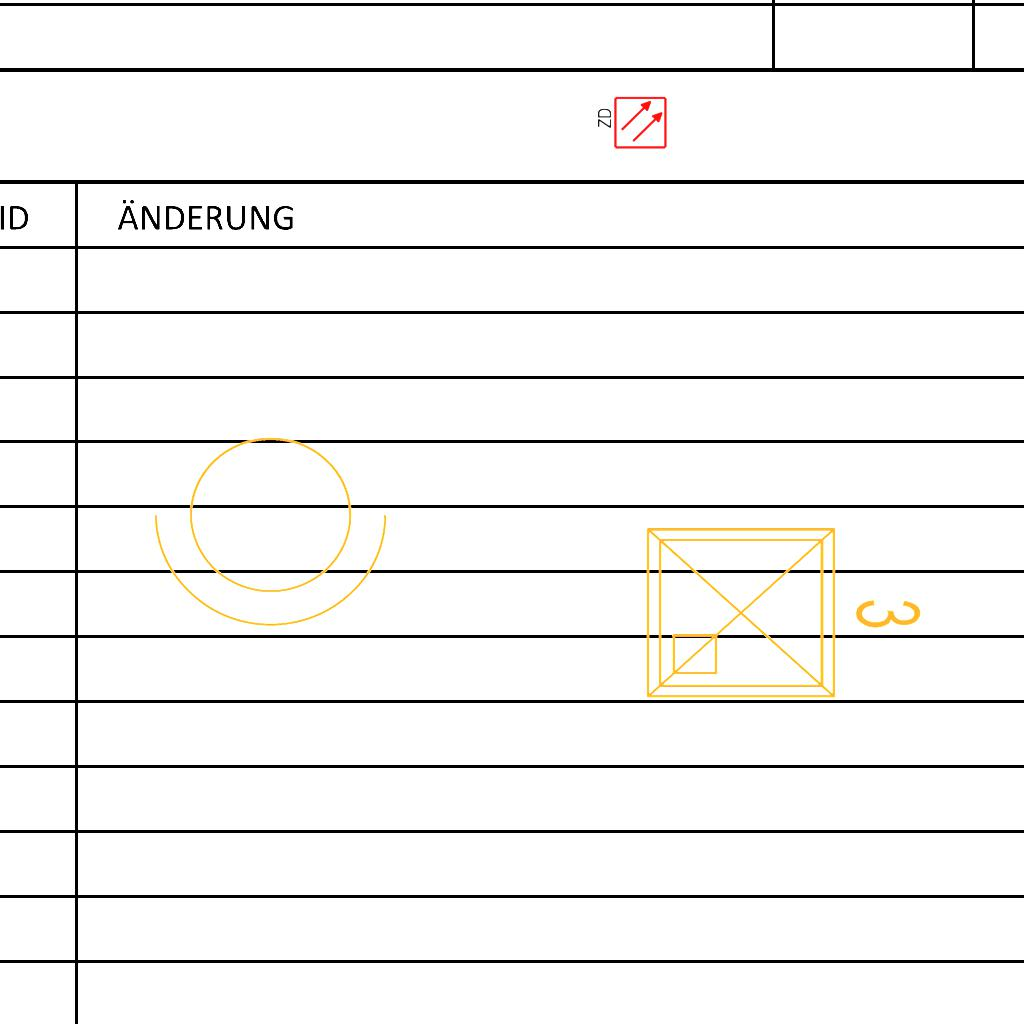Einbaudownlights_LED_Konferenzraeume: (632, 505, 932, 713)
Scheinwerfer_fuer_Alarmbeleuchtung: (145, 412, 409, 637)
ZD_Melder_in_Zwischendecke_mit_Revisionsoeffnung_mind_40_x_40_cm: (594, 95, 668, 152)
